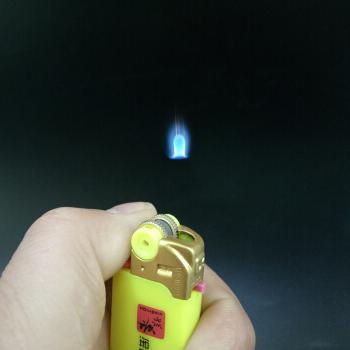fire: (162, 123, 198, 171)
